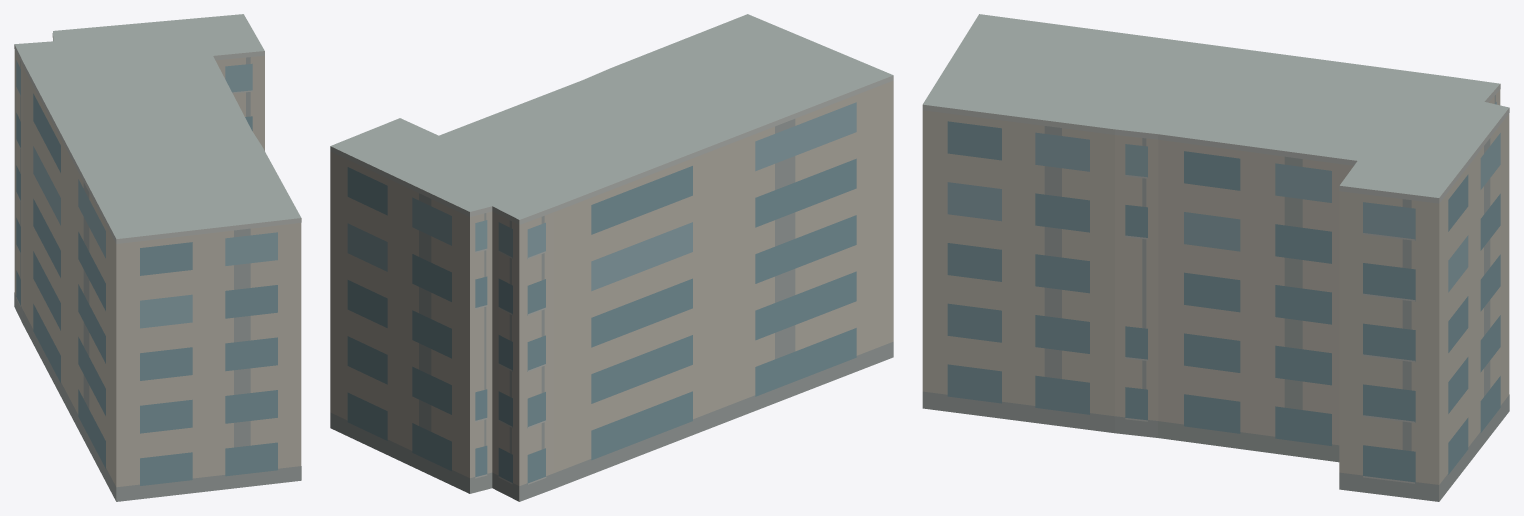
File: survey-upis-32973371.glb
3 views of the same model, side by side, from view 1: azimuth 30°, elevation 25°; view 2: azimuth 150°, elevation 25°; view 3: azimuth 270°, elevation 25° (orthographic). The views are drawn at different scales.
Parts seen in each view (by area): view 1: survey-upis-32973371.tmp; view 2: survey-upis-32973371.tmp; view 3: survey-upis-32973371.tmp.
Boxes of the visible parts, bbox=[...] form: survey-upis-32973371.tmp: bbox=[14, 14, 301, 501]; survey-upis-32973371.tmp: bbox=[330, 14, 893, 501]; survey-upis-32973371.tmp: bbox=[922, 14, 1509, 501].
Bounding box in the file's own units: 17.42 × 13.4 × 23.47.
